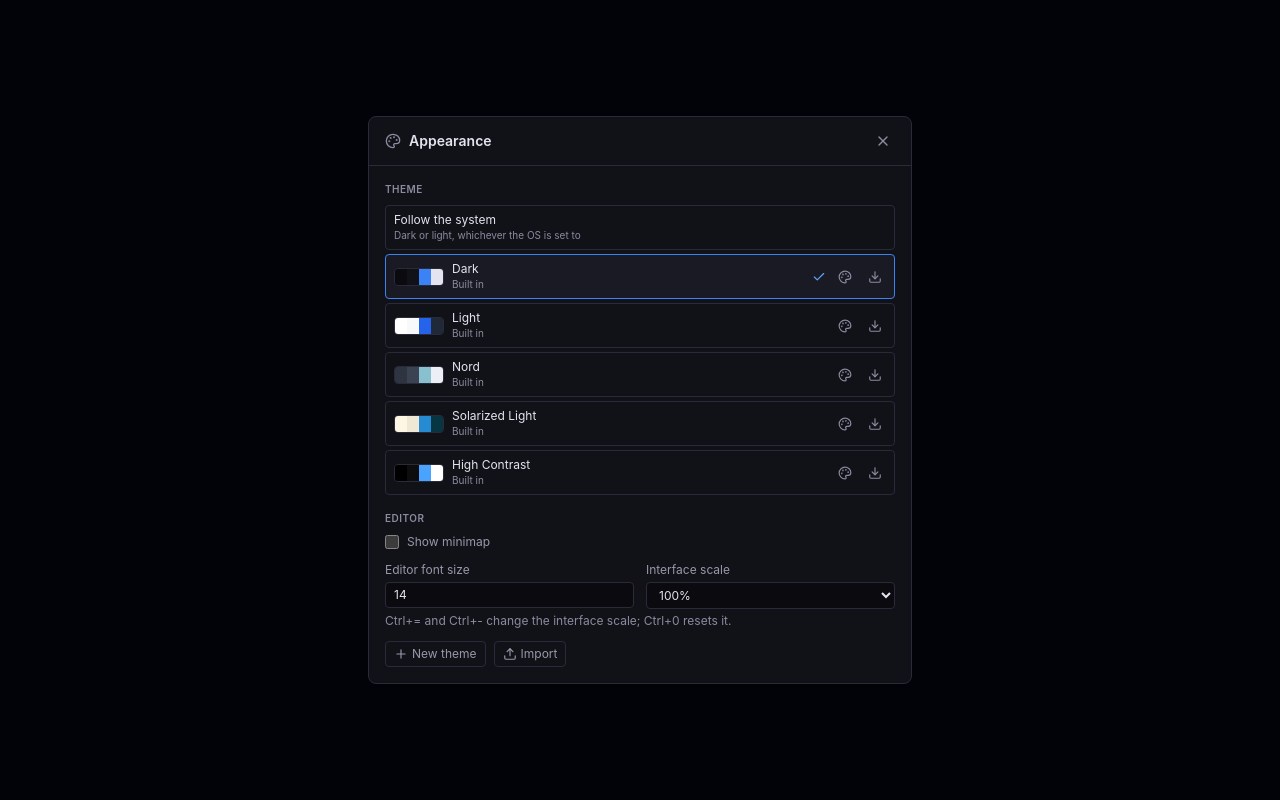
ThemeSettingsDialog (#350) › editing › saves and selects the edited theme
Click the button named "Edit Dark" at [845, 276], box [834,266,856,288]
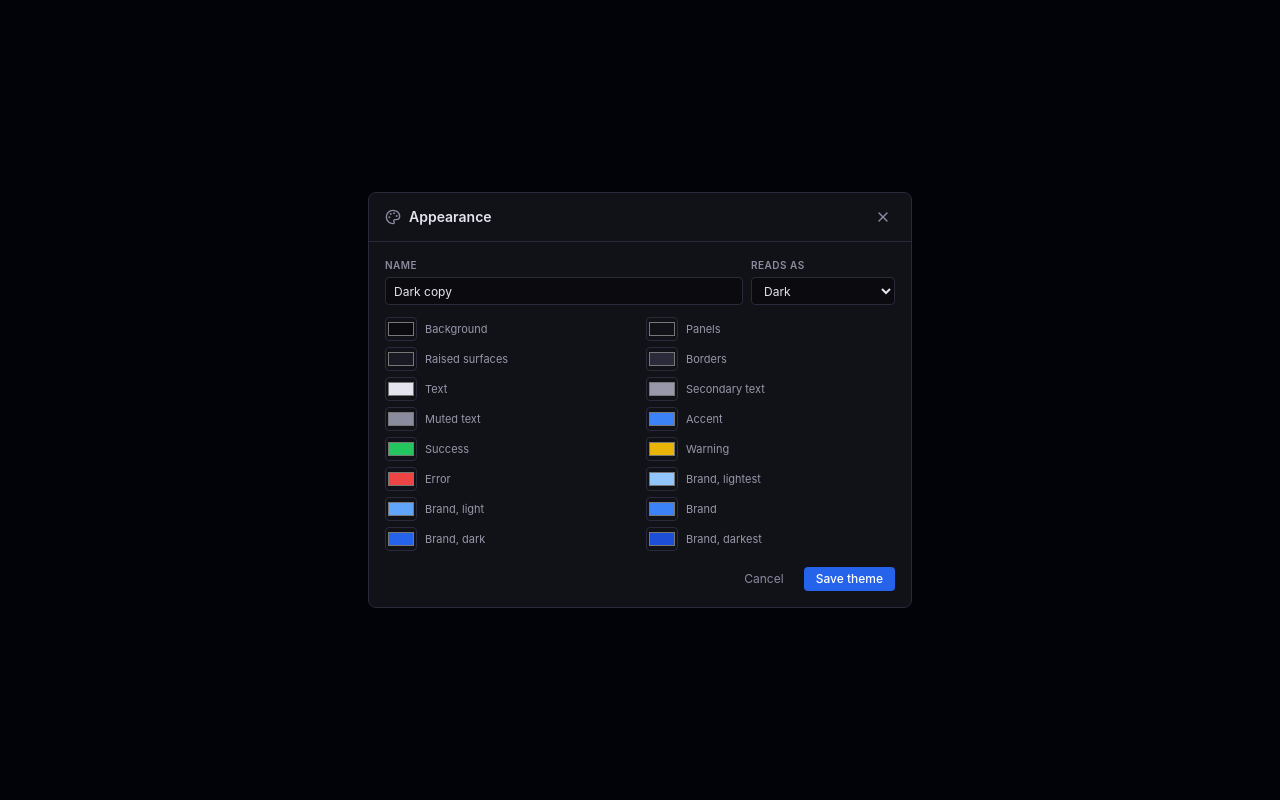
Replace the text in the field labelled "Name" with "Midnight" at [564, 291], box [385,277,743,305]
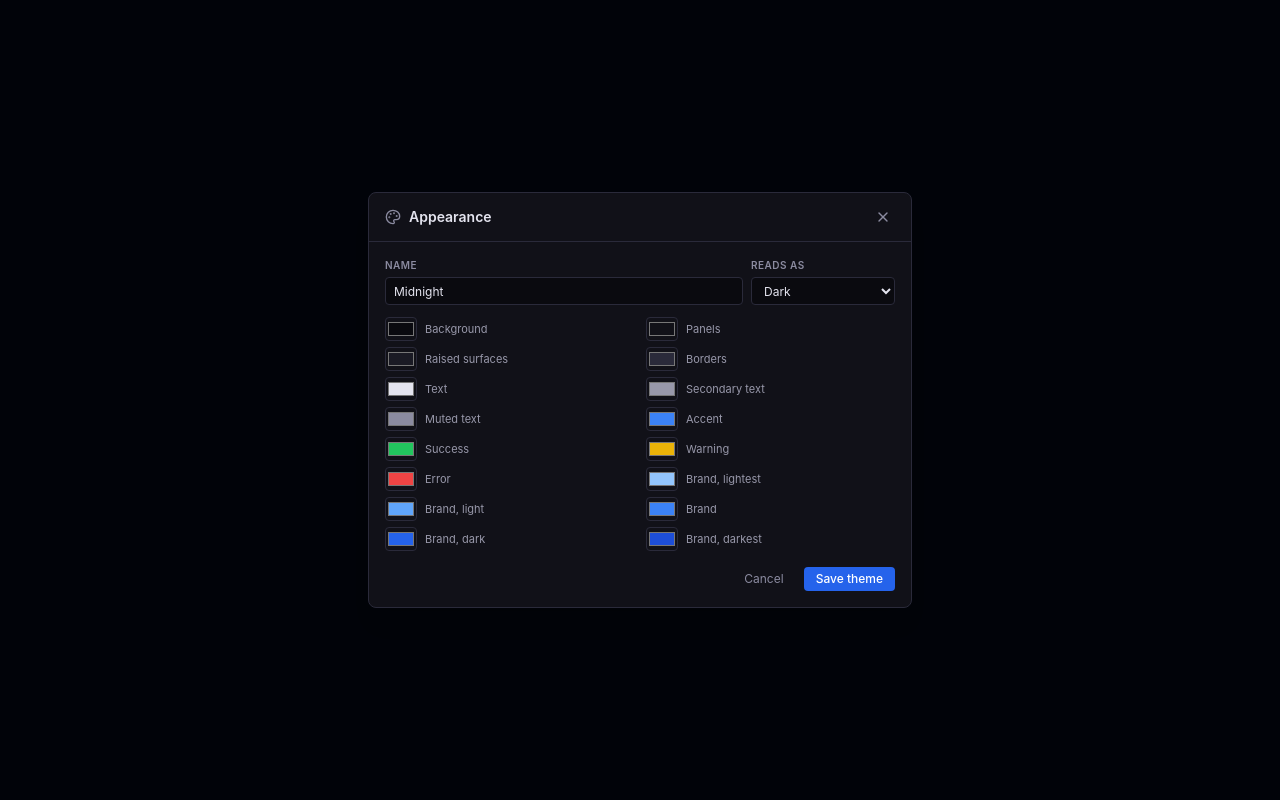
Click the button "Save theme" at [849, 579], box [804,567,895,591]
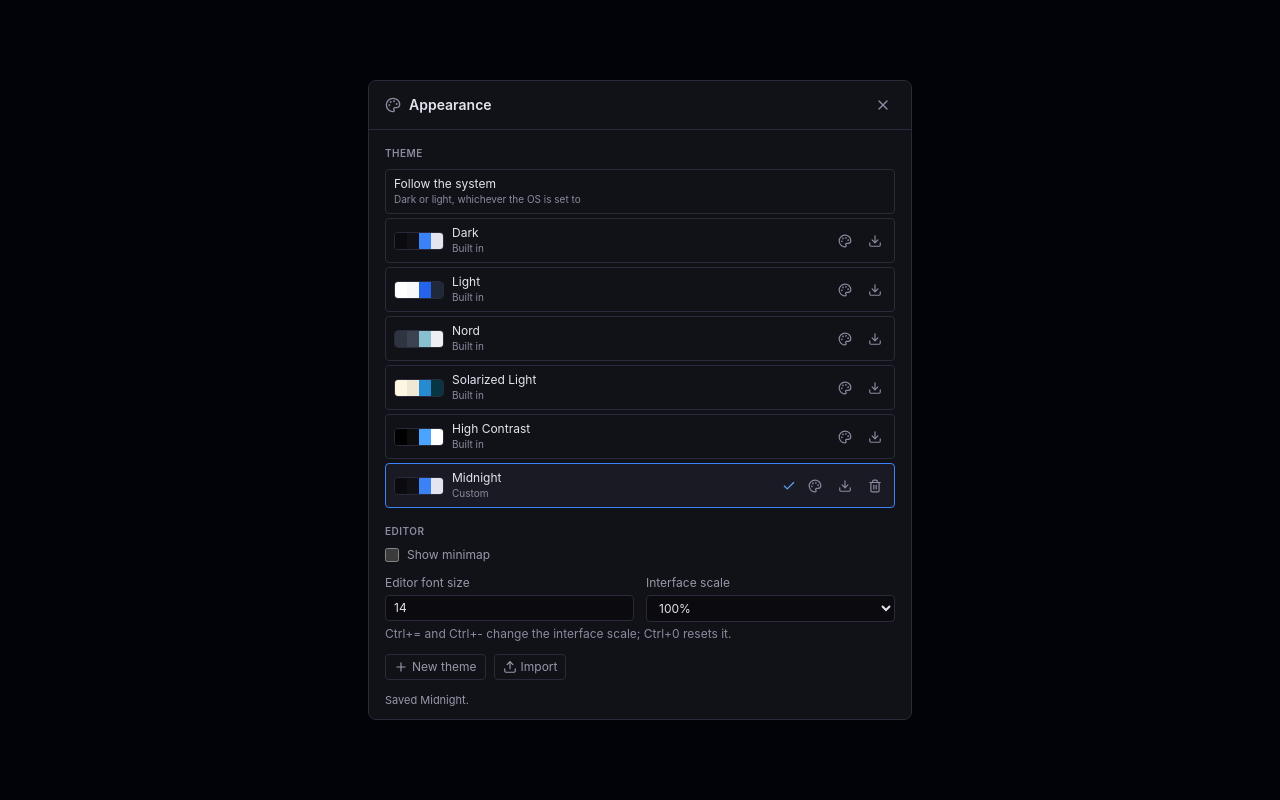
expect the text "Midnight" is shown: met, box [452,470,502,486]
